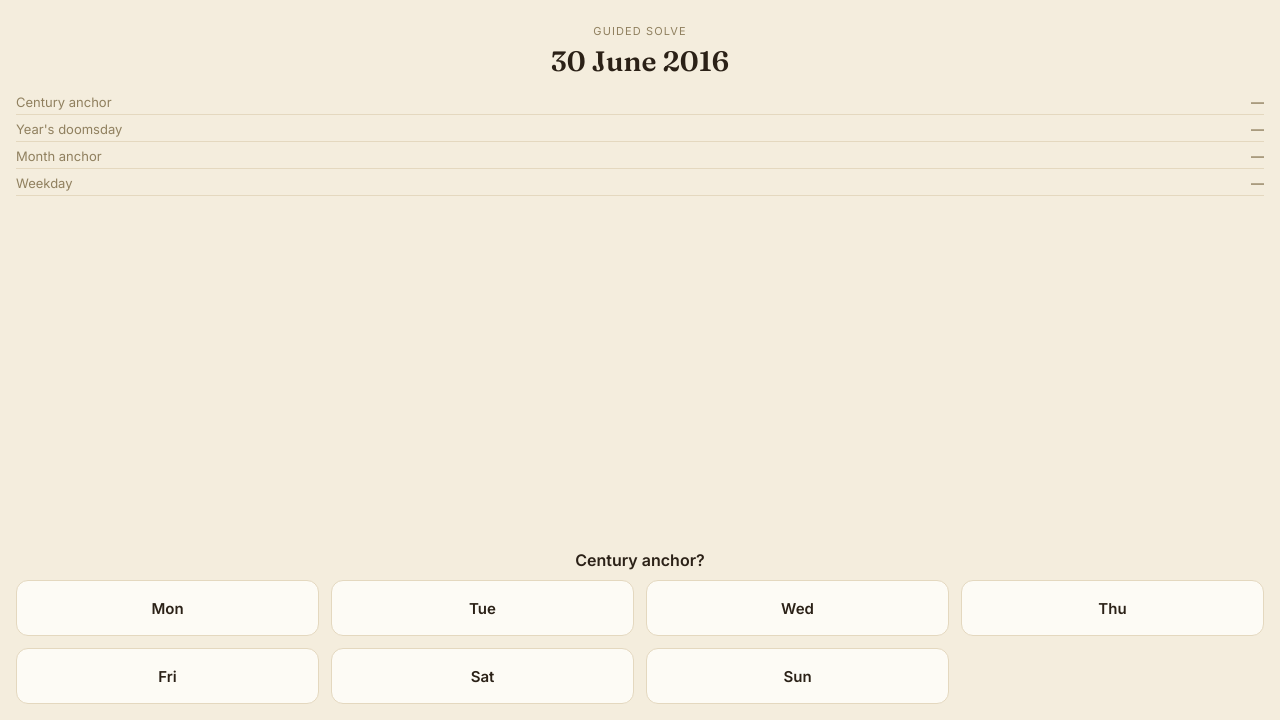
Test: GuidedSolve › immediately flags a wrong century anchor with ✕ before the next step is answered
Click the button with aria-label "Wednesday" at (798, 608), box [646,580,949,636]
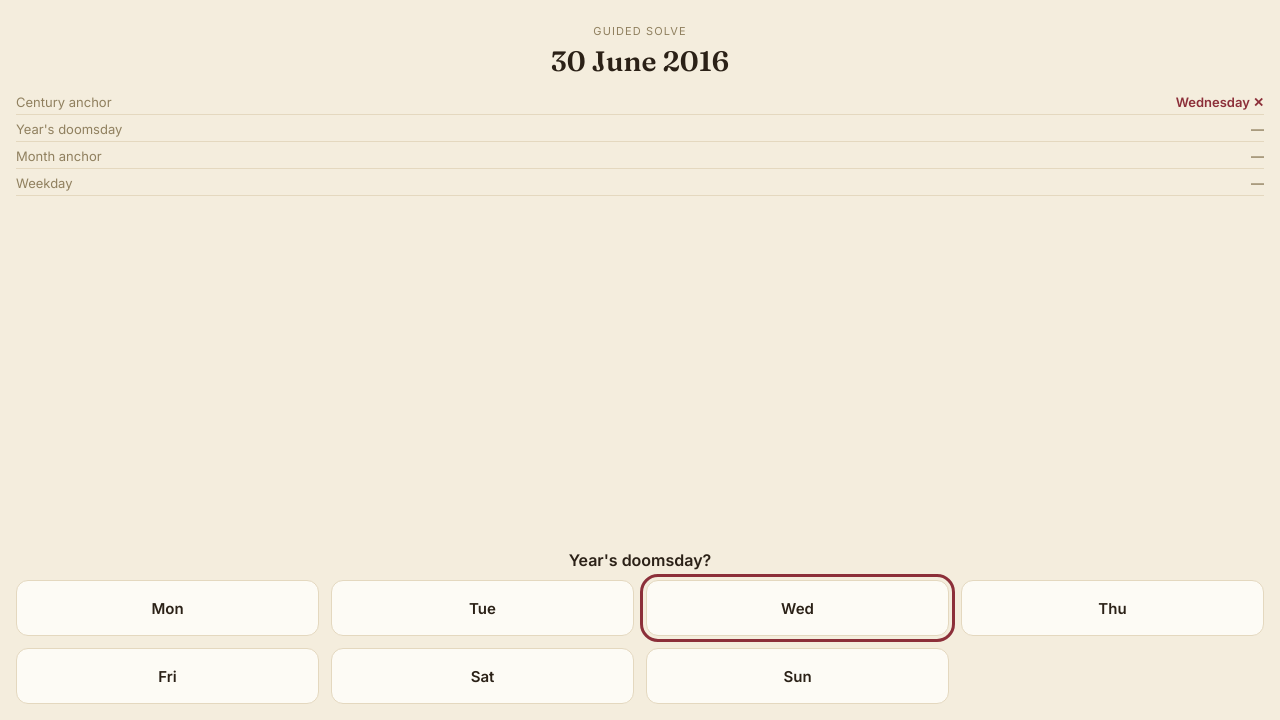
Result: the text "Year's doomsday?" is shown at [569,550,711,570]
